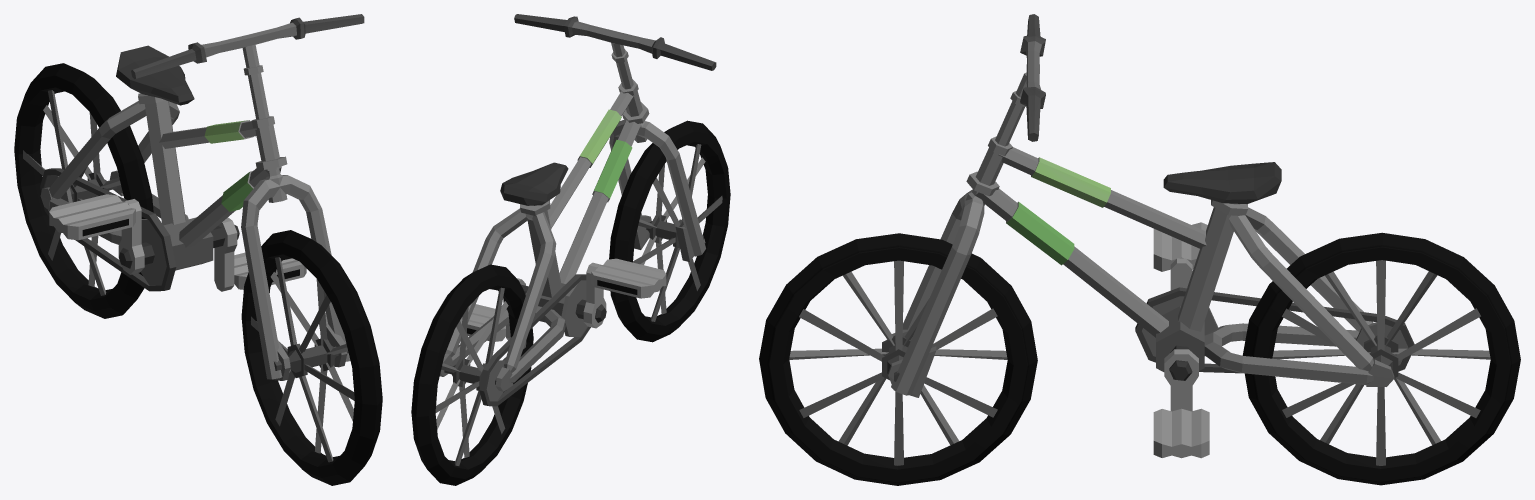
File: kid_bike.glb
3 views of the same model, side by side, from view 1: azimuth 30°, elevation 25°; view 2: azimuth 150°, elevation 25°; view 3: azimuth 270°, elevation 25° (orthographic). The views are drawn at different scales.
Visible parts, largest first — view 1: SM_Veh_Bike_02_Combined; view 2: SM_Veh_Bike_02_Combined; view 3: SM_Veh_Bike_02_Combined.
Part boxes in pixels (x1,y1,x2,y2): SM_Veh_Bike_02_Combined: (14, 14, 382, 485); SM_Veh_Bike_02_Combined: (411, 14, 730, 485); SM_Veh_Bike_02_Combined: (759, 14, 1520, 485).
Size of the model in its own units: 0.4391 by 0.7008 by 1.14.
Materials: 1 (1 with a texture image).
